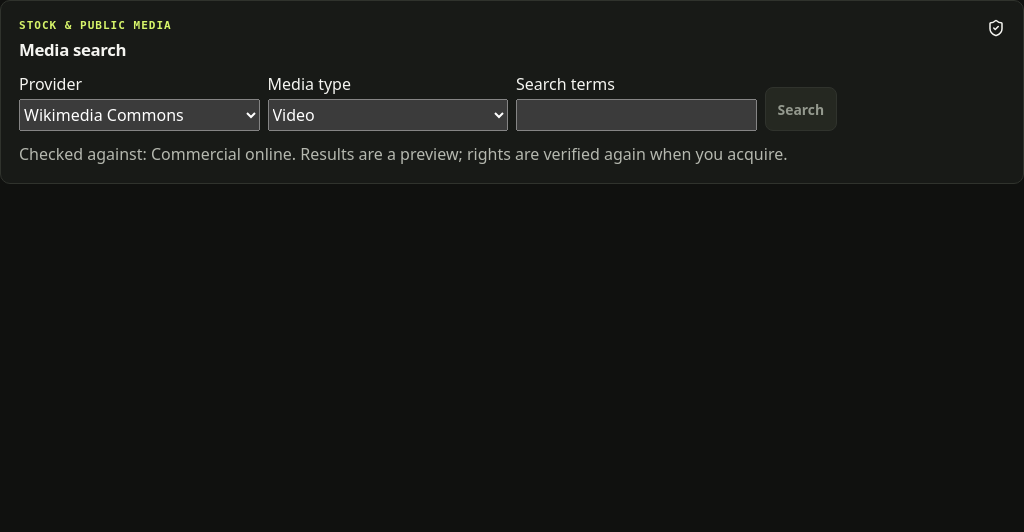
Test: RightsPanel › compares candidates side by side
In the search field labelled "Search terms": {"x": 636, "y": 115} [516,99,756,131], type "sunrise"
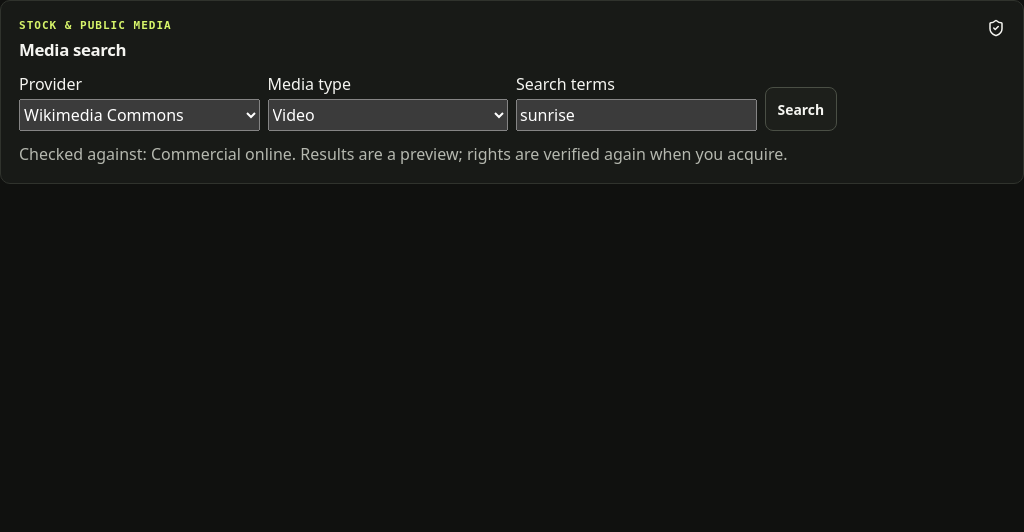
Click the button "Search": {"x": 801, "y": 109} [764,87,837,131]
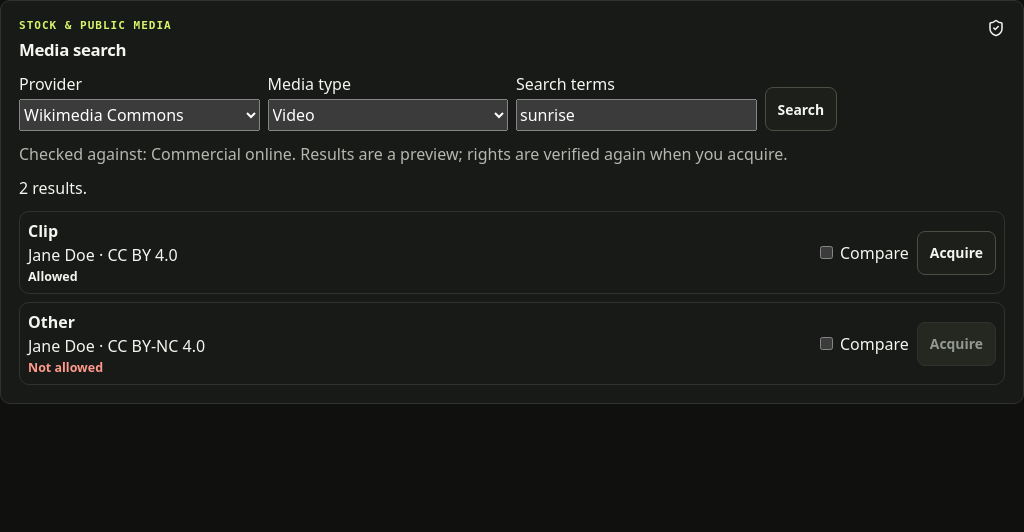
Now the list named "Search results" is shown, box [19,211,1005,385]
Click the checkbox labelled "Compare" in the row of "CC BY 4.0": {"x": 826, "y": 252} [820,246,833,259]
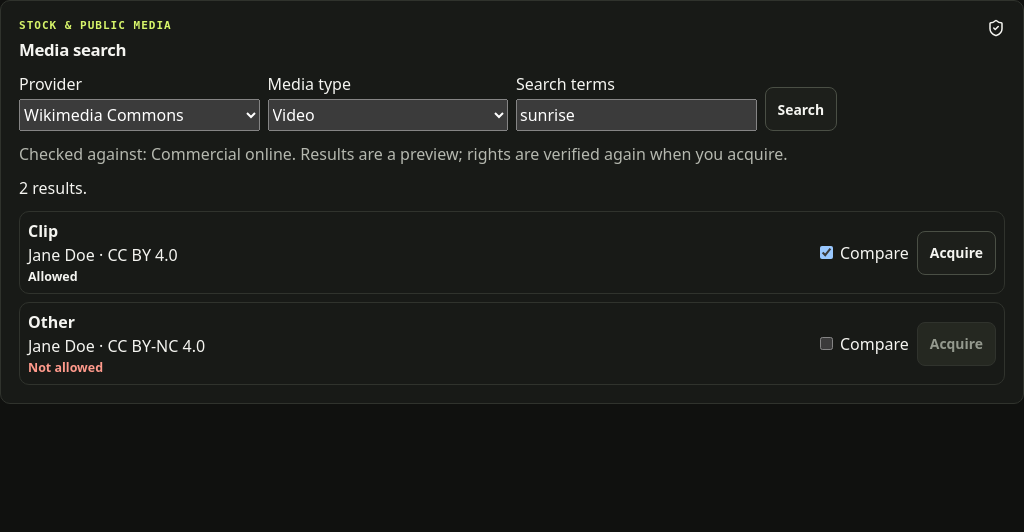
Click the checkbox labelled "Compare" in the row of "CC BY-NC 4.0": {"x": 826, "y": 344} [820,337,833,350]
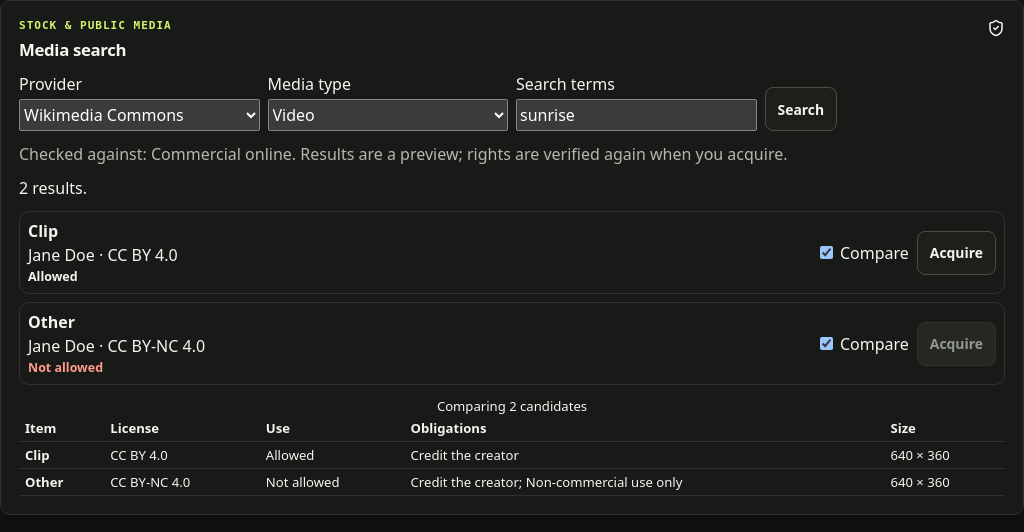
Now the text "Comparing 2 candidates" is shown, box [437,397,587,415]
Now the text "Non-commercial use only" is shown, box [410,473,682,491]
